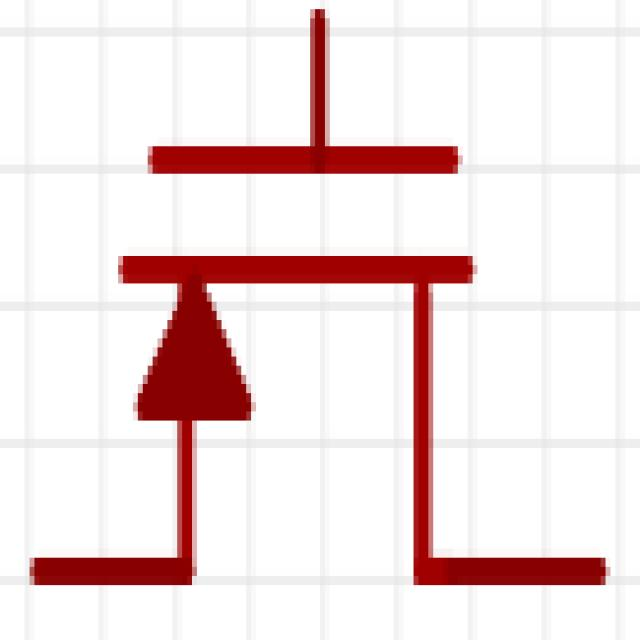pmos: (36, 18, 610, 620)
